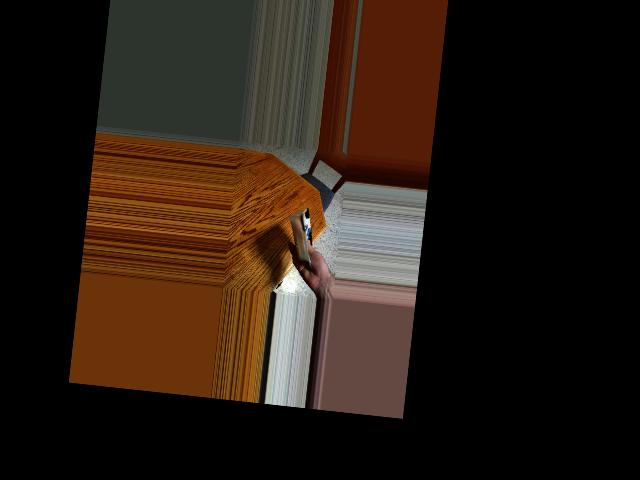cheese: (279, 208, 329, 263)
